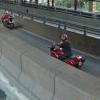Motorcycle: (44, 30, 90, 68)
